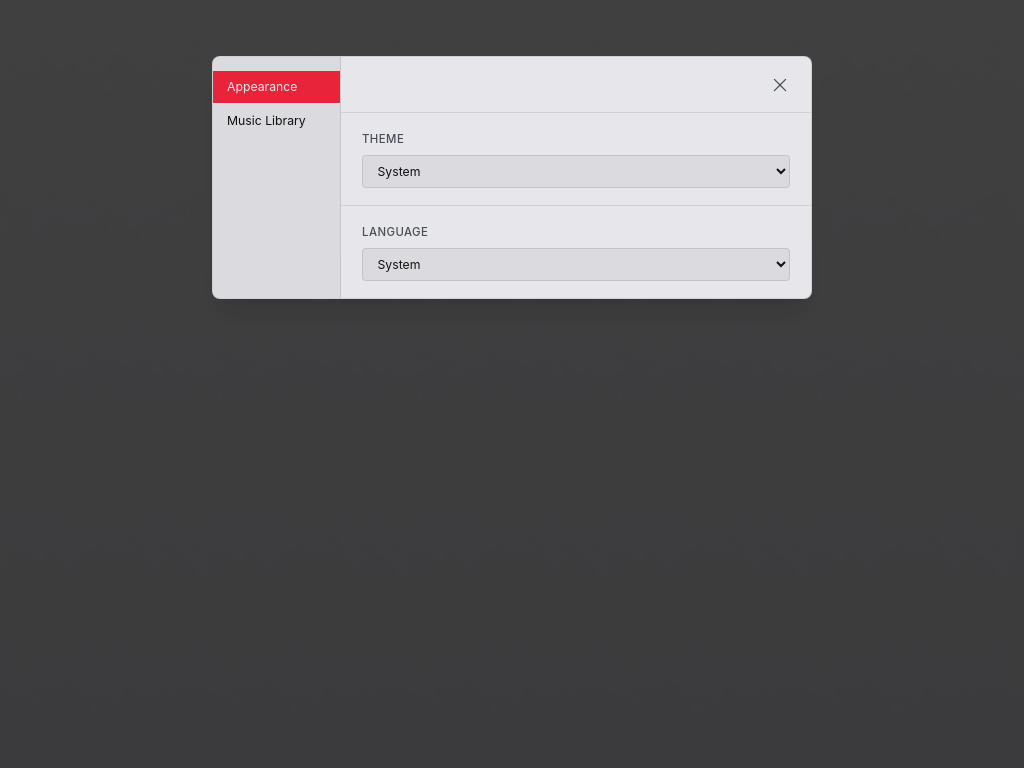
Test: Settings Component › Date Formatting › formats date correctly when lastUpdated is provided
Click the button "Music Library" at [276, 121], box top-left (213, 105), bottom-right (340, 138)
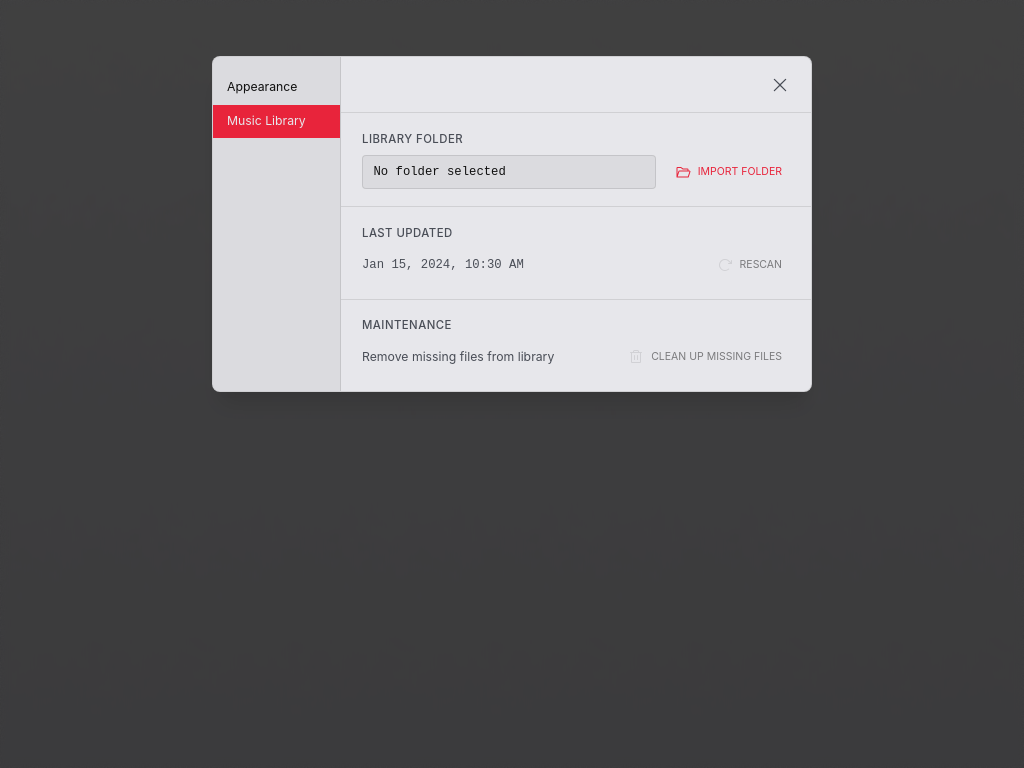
Result: the text "Jan 15, 2024, 10:30 AM" is shown at top-left (362, 256), bottom-right (524, 274)
